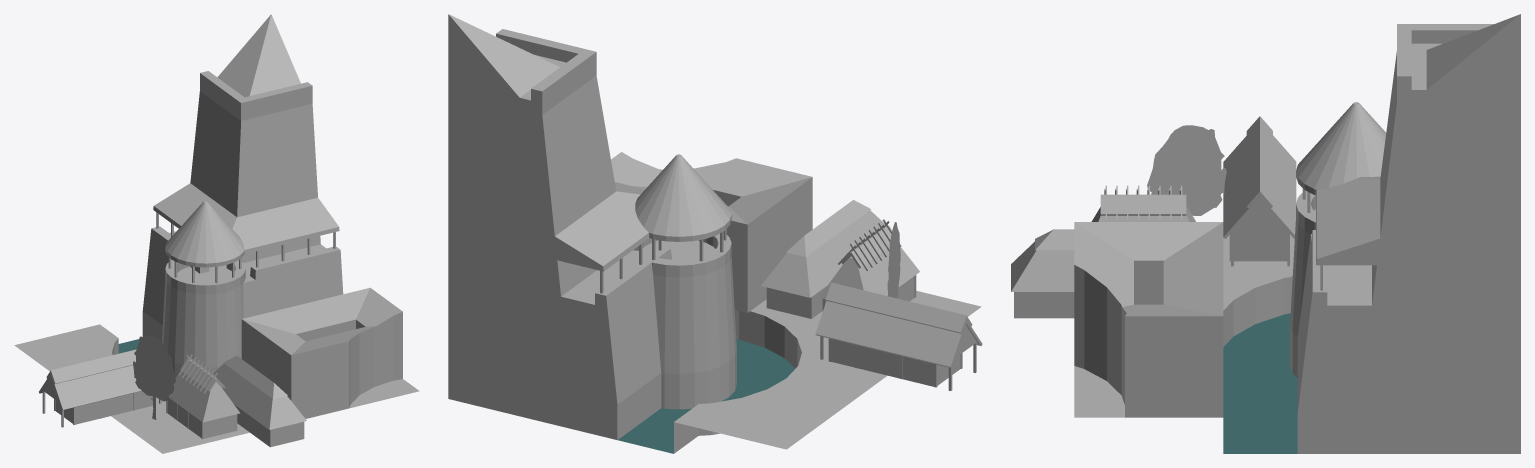
The picture shows the model from 3 angles, left to right: view 1: azimuth 30°, elevation 25°; view 2: azimuth 150°, elevation 25°; view 3: azimuth 270°, elevation 25°; orthographic projection. The views are drawn at different scales.
Visible parts, largest first — view 1: wc21; view 2: wc21; view 3: wc21.
Part boxes in pixels (x1,y1,x2,y2): wc21: (14, 14, 419, 453); wc21: (448, 14, 982, 453); wc21: (1011, 14, 1520, 453).
Size of the model in its own units: 35.84 by 32.63 by 34.26.
